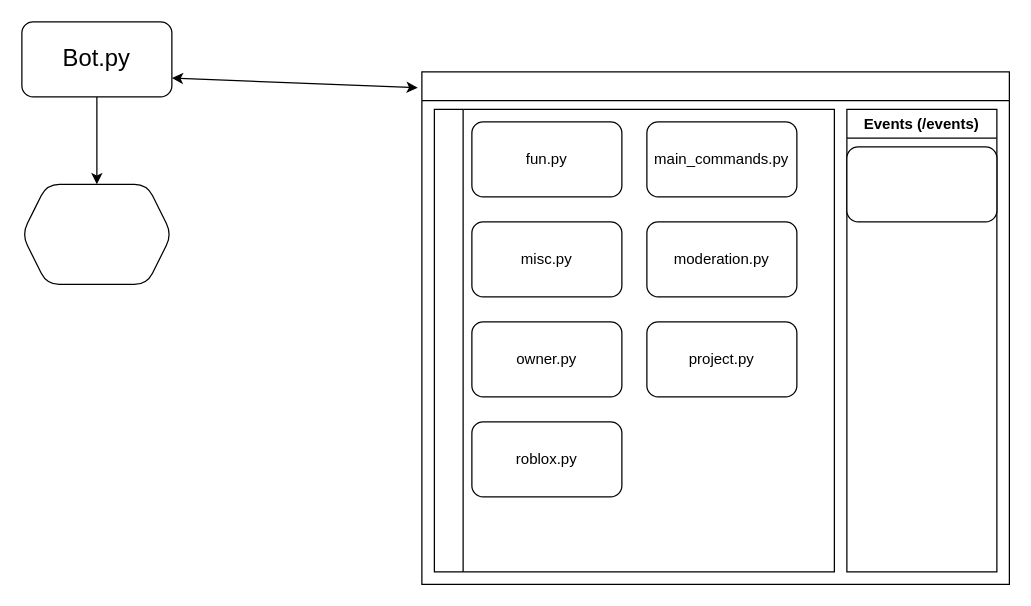
Some shapes in this 1031 by 606 pixel diagram are drawn without their labels. Each missing label, with the box of its shape:
bot_logs.log: (21, 183, 172, 284)
cogs (/cogs): (421, 71, 1009, 584)
Commands (/commands): (433, 108, 834, 572)
errors.py: (846, 146, 997, 222)
